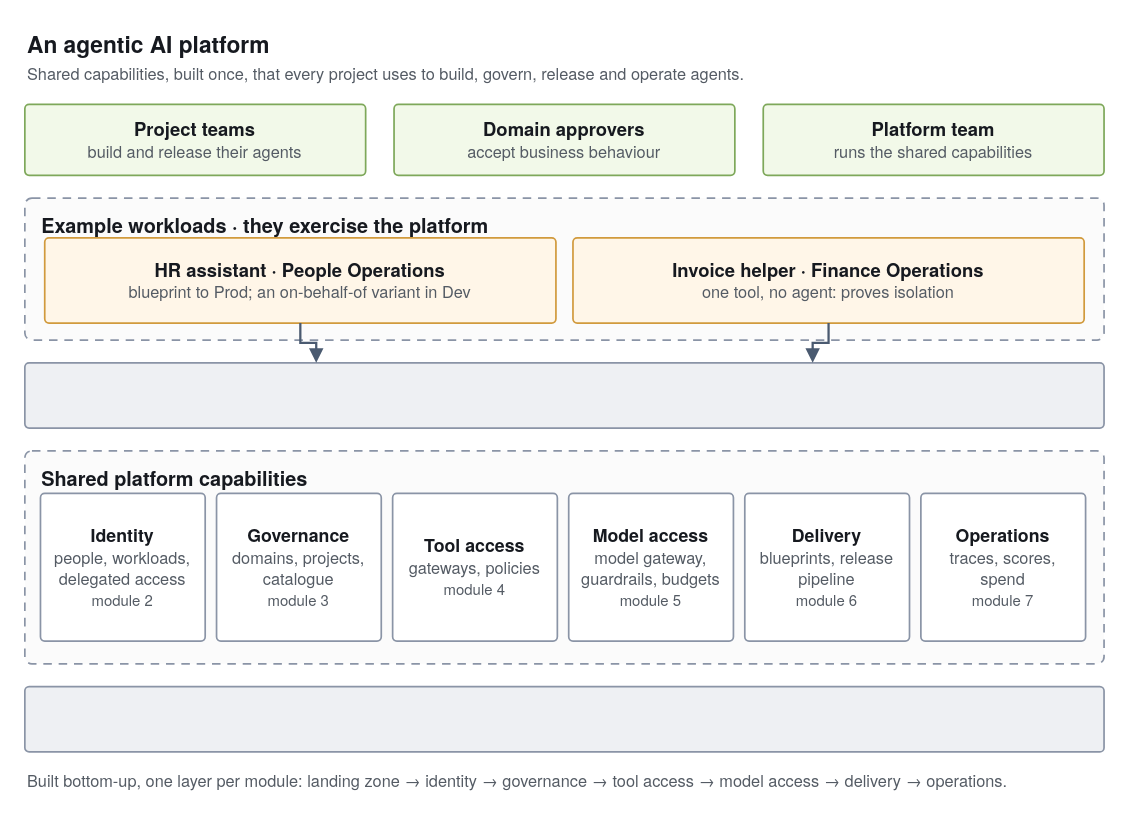
Image size: 1130x821. Some labels were removed from this diagram. The shapes that lost their labels are listed below. From the top down, each one's centre as x and y in pixels, then its label:
At pixel 563 394: "Platform interfaces web UI · platform API · blueprints · the workshop command".
At pixel 563 718: "Landing zone · module 1 accounts, private network, infrastructure code".
